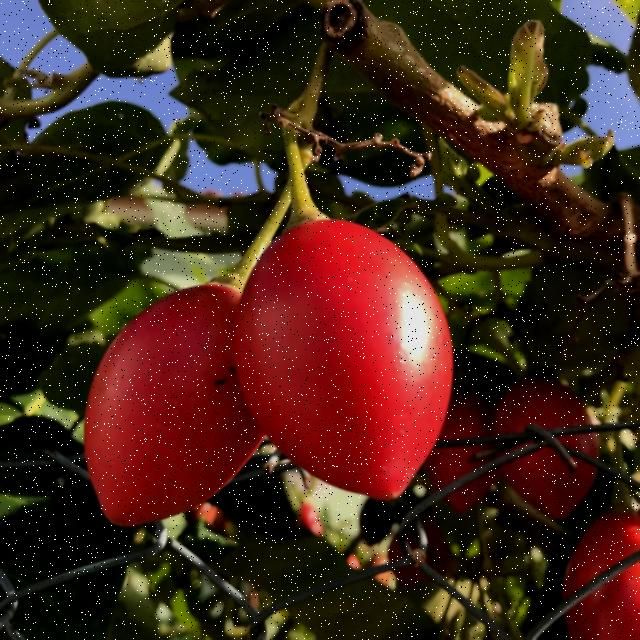Tree Tomato: (173, 188, 446, 506), (53, 249, 274, 586), (506, 357, 598, 538)
